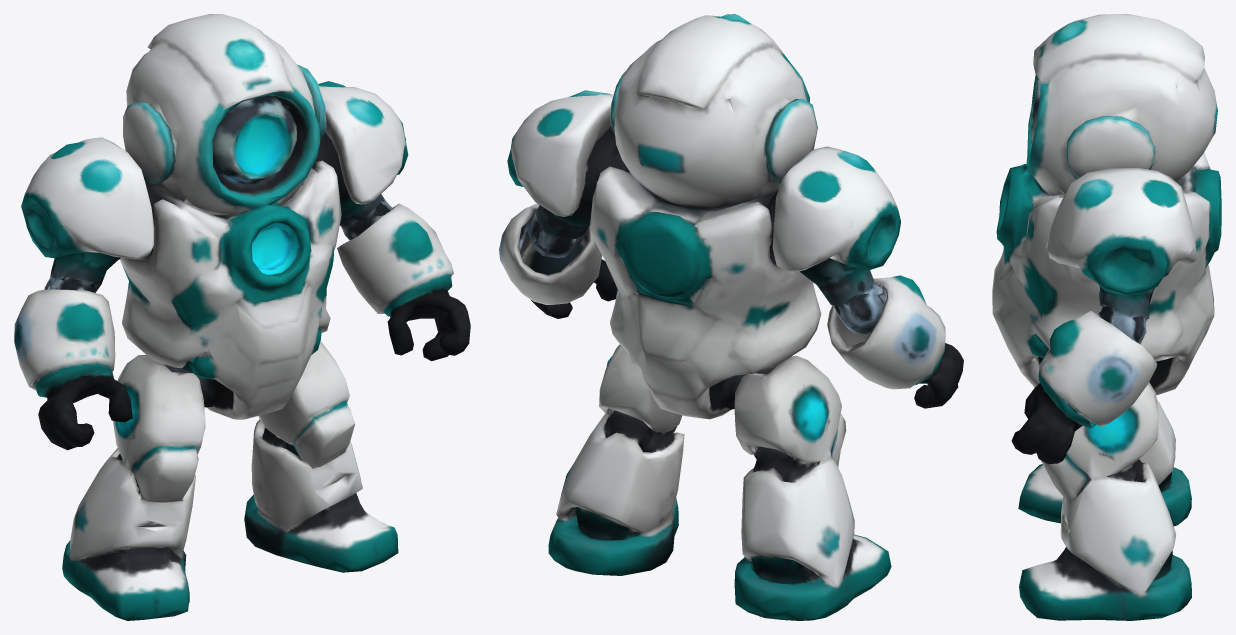
File: kampfroboter.glb
3 views of the same model, side by side, from view 1: azimuth 30°, elevation 25°; view 2: azimuth 150°, elevation 25°; view 3: azimuth 270°, elevation 25° (orthographic).
Parts seen in each view (by area): view 1: 0; view 2: 0; view 3: 0.
Boxes of the visible parts, left/top/right/bottom form: 0: left=14, top=14, right=470, bottom=620; 0: left=499, top=14, right=963, bottom=620; 0: left=992, top=14, right=1221, bottom=620.
Bounding box in the file's own units: 0.8148 × 0.9973 × 0.3882.
Materials: 1 (1 with a texture image).
